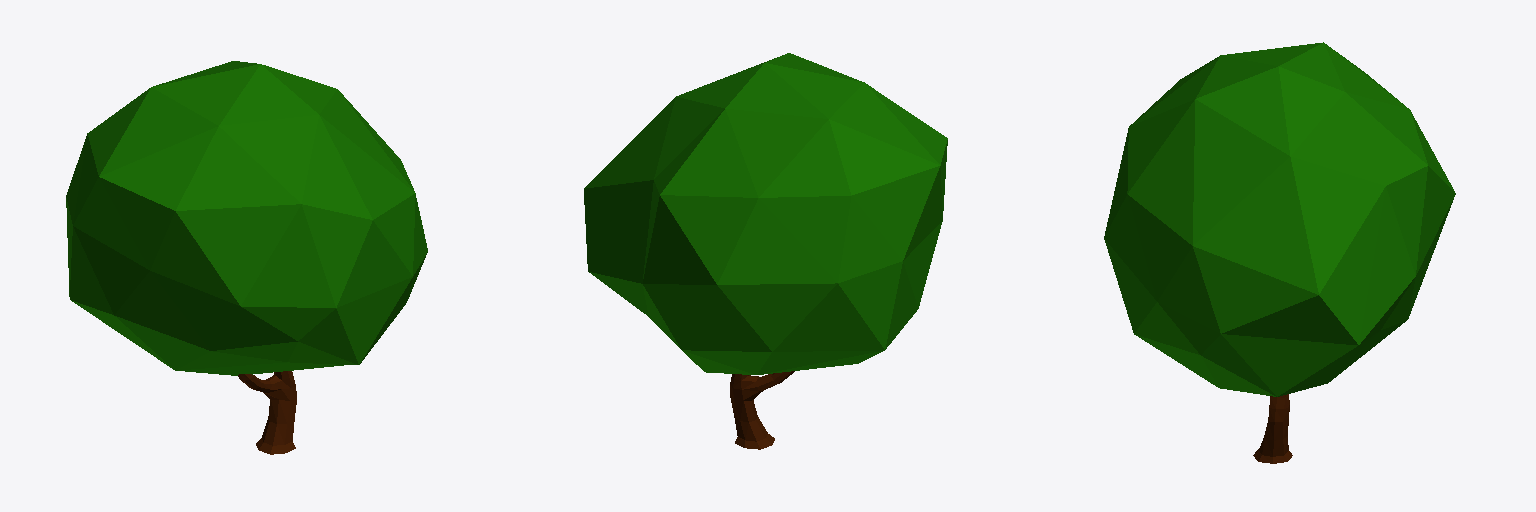
Rendered from bush.obj.
3 renders of one model, left to right at view 1: azimuth 30°, elevation 25°; view 2: azimuth 150°, elevation 25°; view 3: azimuth 270°, elevation 25°, orthographic.
Visible parts, largest first — view 1: Bush_1_Cube.003; view 2: Bush_1_Cube.003; view 3: Bush_1_Cube.003.
Boxes of the visible parts, box(x1,y1,x2,y2) form: Bush_1_Cube.003: box(66, 61, 427, 454); Bush_1_Cube.003: box(584, 53, 947, 449); Bush_1_Cube.003: box(1104, 42, 1455, 463).
Bounding box in the file's own units: 1.93 × 2.14 × 1.78.